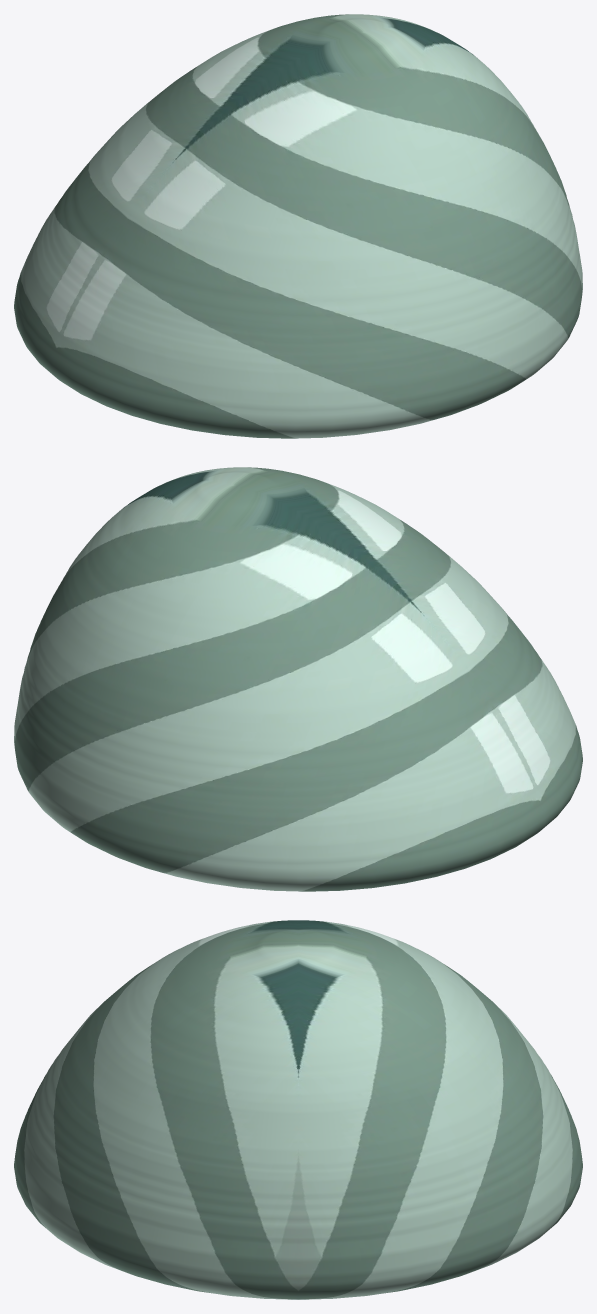
File: striped_reef_rock.glb
3 renders of one model, top to bottom at view 1: azimuth 30°, elevation 25°; view 2: azimuth 150°, elevation 25°; view 3: azimuth 270°, elevation 25°, orthographic.
Visible parts, largest first — view 1: striped_reef_rock; view 2: striped_reef_rock; view 3: striped_reef_rock.
Boxes of the visible parts, x1,y1,x2,y2 form: striped_reef_rock: [14, 14, 582, 438]; striped_reef_rock: [14, 467, 582, 891]; striped_reef_rock: [14, 920, 582, 1299].
Size of the model in its own units: 0.9987 by 0.5932 by 0.9935.
1 material, 1 textured.
